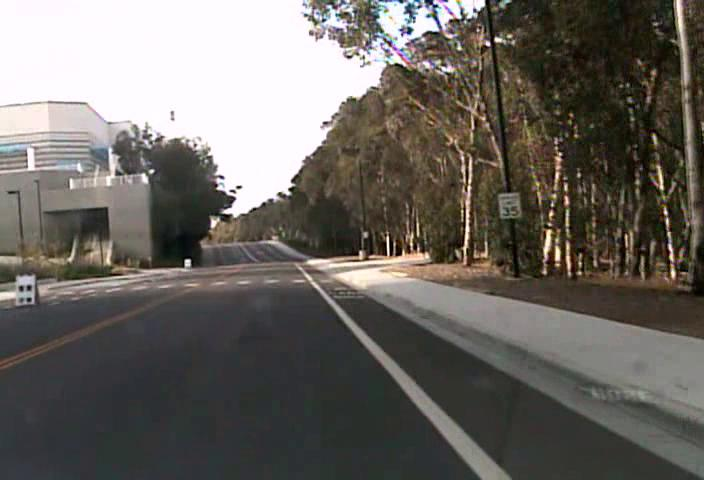speedLimit35: (496, 191, 522, 220)
